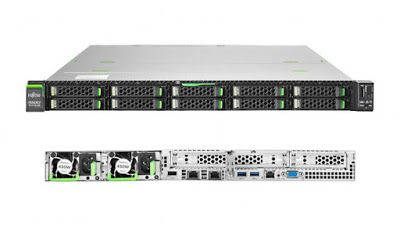ibm-server: (19, 40, 384, 118)
